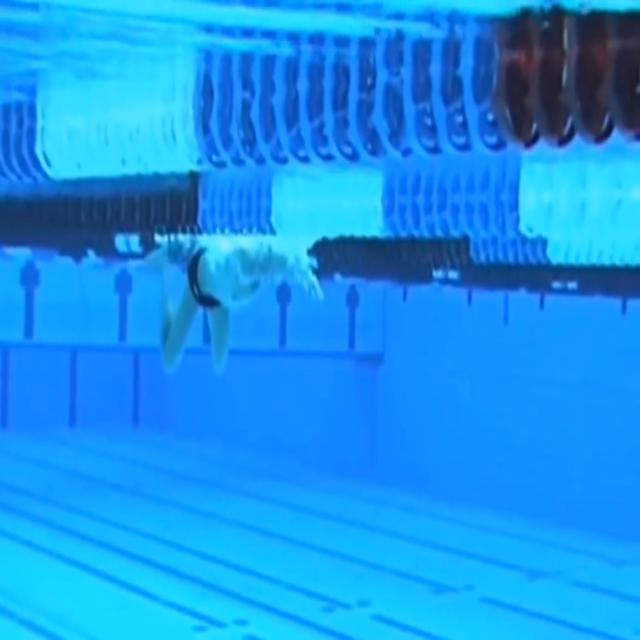Swimming: (147, 240, 323, 374)
